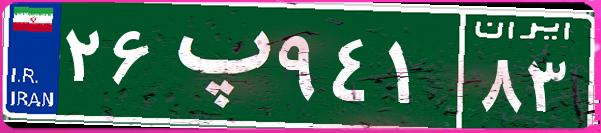1: (385, 28, 445, 110)
2: (57, 26, 110, 107)
3: (525, 38, 570, 115)
4: (330, 28, 385, 110)
6: (110, 28, 158, 105)
8: (475, 38, 525, 113)
9: (273, 28, 330, 110)
پ: (158, 15, 273, 115)
